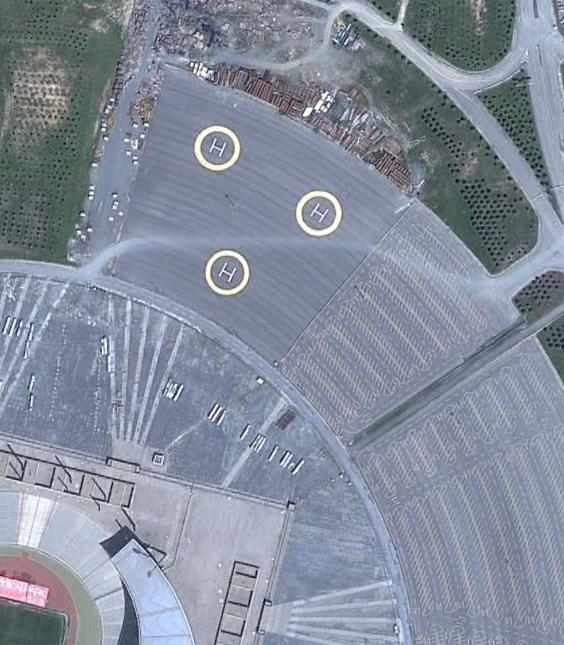heliport: (215, 259, 239, 284), (308, 199, 331, 225), (206, 134, 228, 159)
